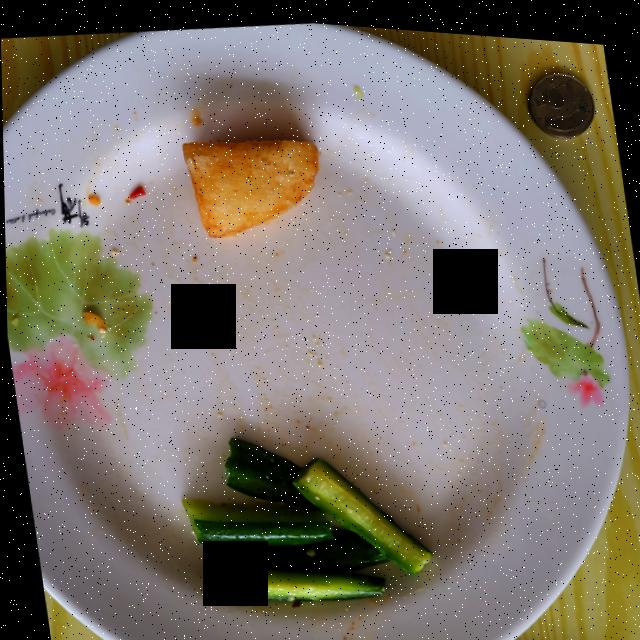coin: (527, 64, 594, 129)
cucumber: (179, 433, 429, 598)
fried potato: (181, 134, 318, 233)
